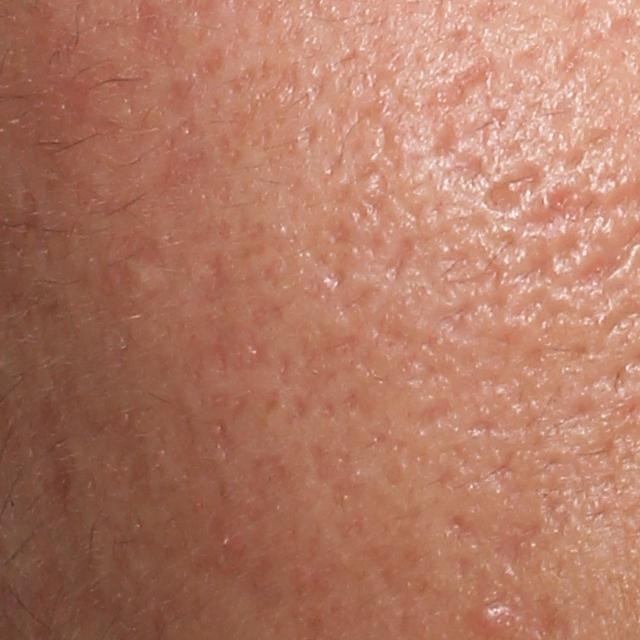atrophic_scar: (422, 51, 503, 109), (514, 186, 609, 229), (484, 159, 552, 218), (374, 225, 419, 297), (444, 145, 501, 199), (298, 326, 360, 372), (410, 395, 459, 437), (428, 111, 466, 162)
papule: (476, 601, 512, 633)
